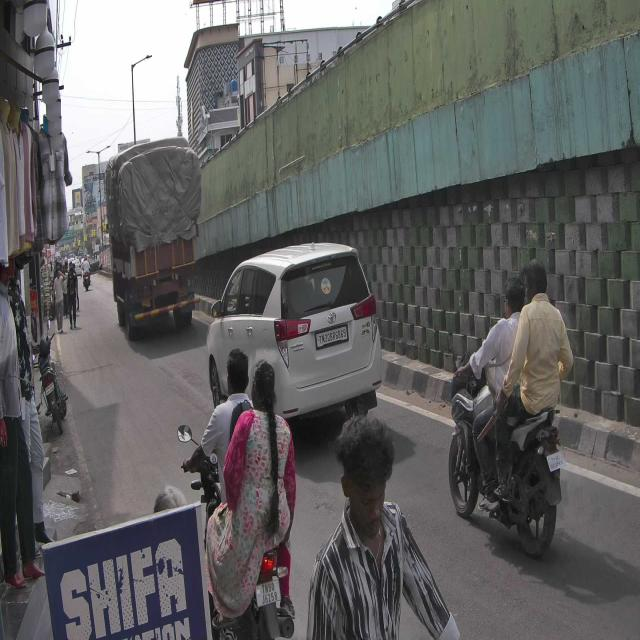double_rider: (445, 257, 571, 555)
